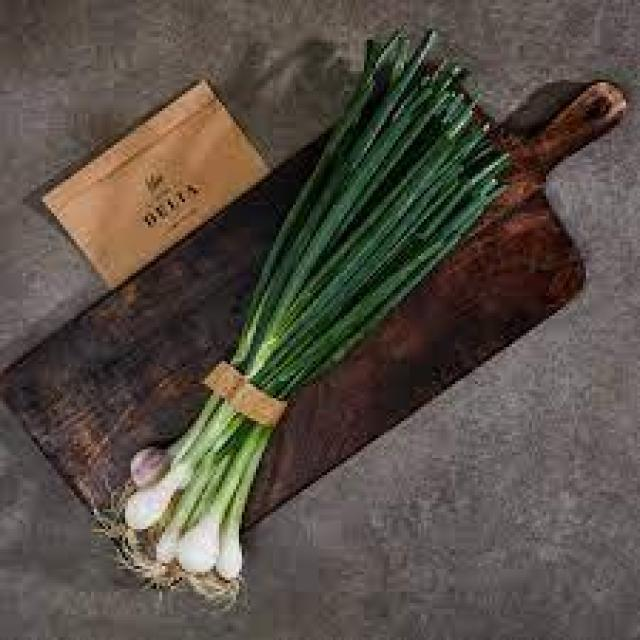Onion: (94, 26, 509, 620)
